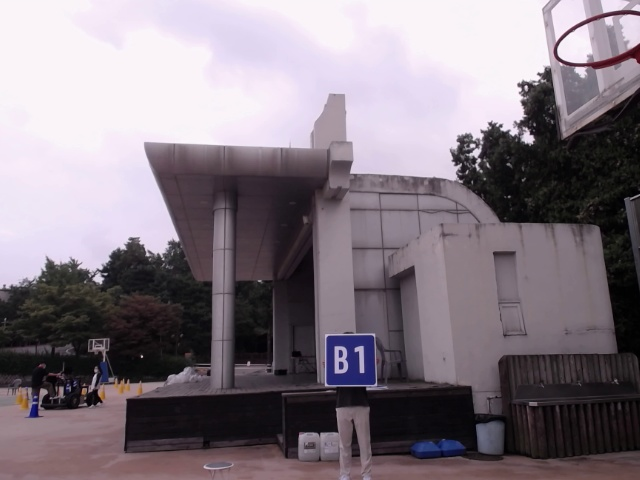delivery_b1: (325, 333, 377, 386)
